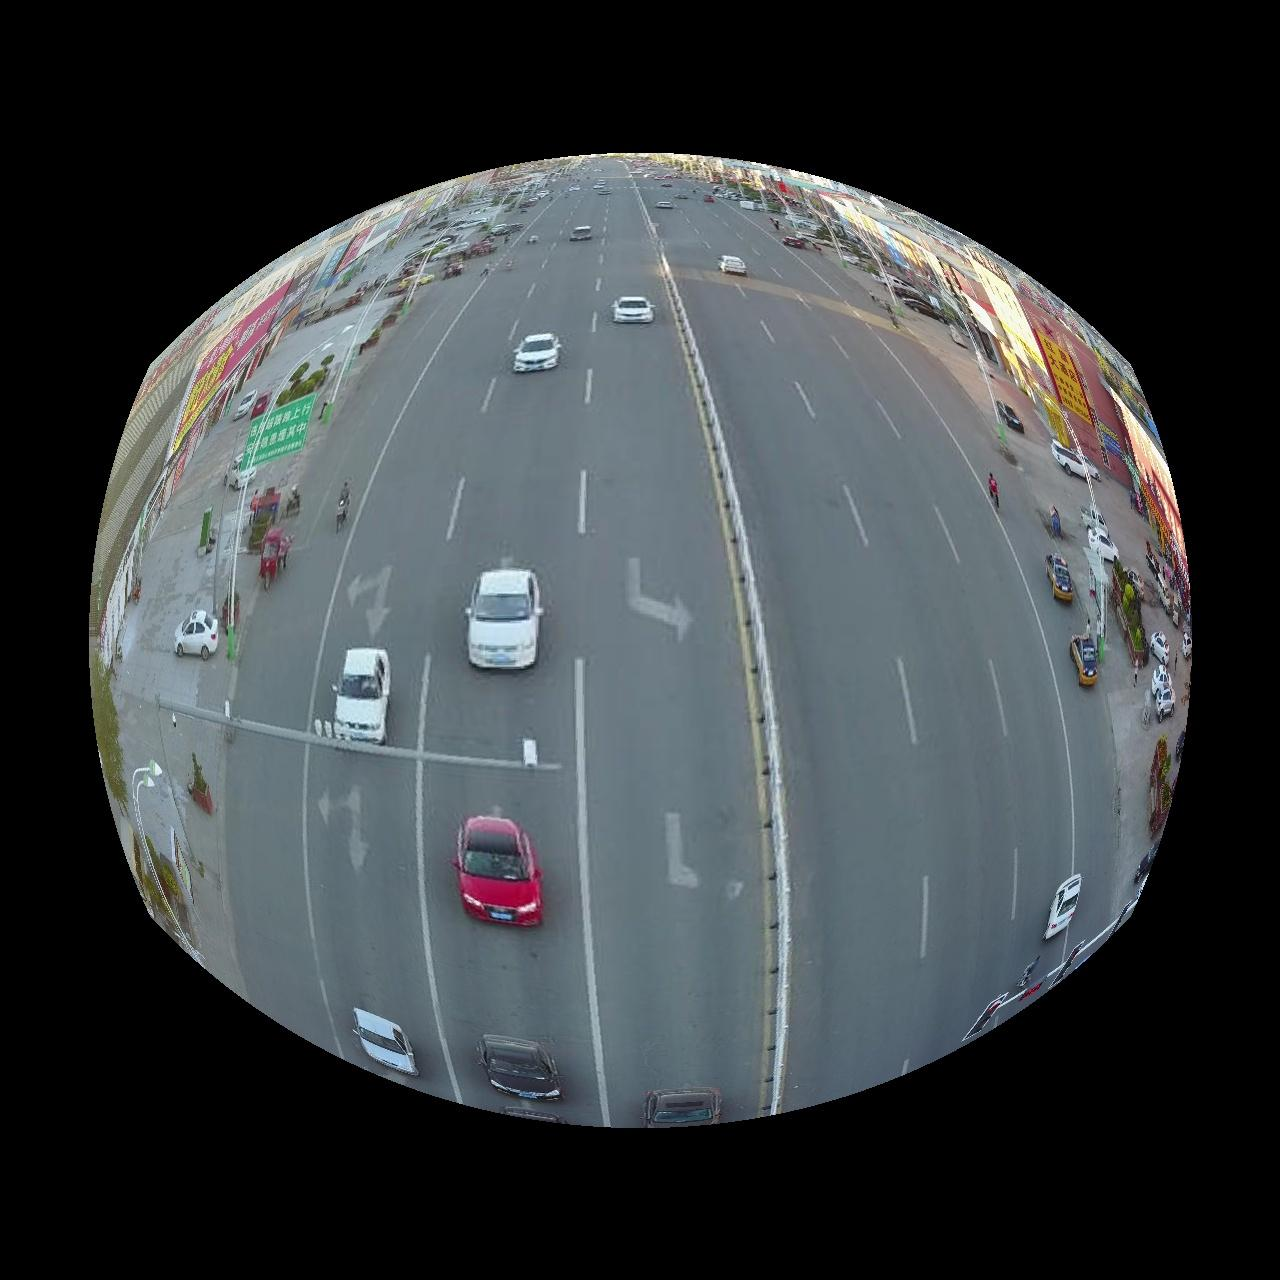building: (945, 247, 1131, 477), (1108, 382, 1191, 608)
cars: (452, 817, 544, 928), (465, 568, 544, 669), (332, 649, 392, 744), (477, 1037, 561, 1102), (353, 1010, 417, 1077), (645, 1089, 722, 1130), (1044, 874, 1084, 941), (512, 332, 563, 373), (1073, 635, 1099, 687), (1049, 554, 1076, 604), (612, 295, 655, 322), (719, 254, 749, 275)
